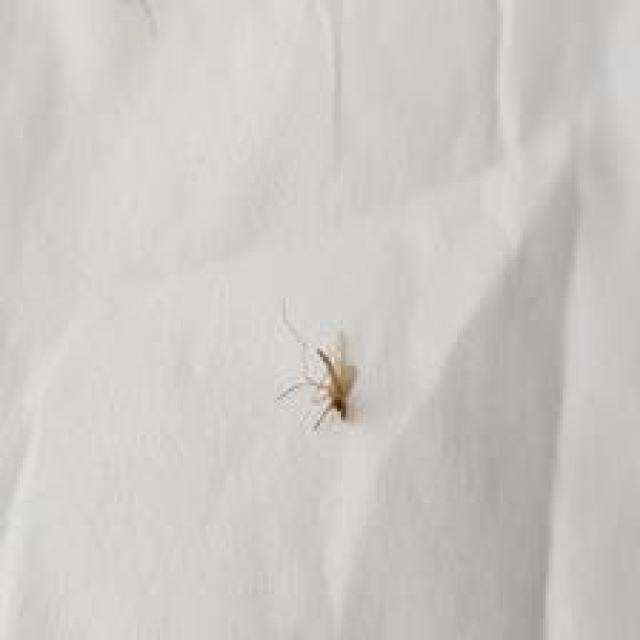Culex: (274, 298, 357, 433)
